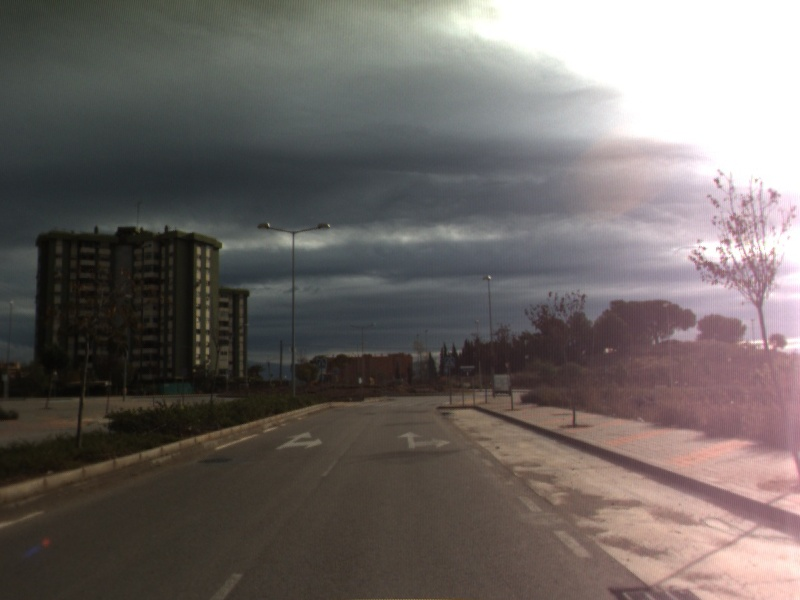STRAIGHT_RIGHT: (273, 428, 324, 452), (396, 430, 452, 450)
